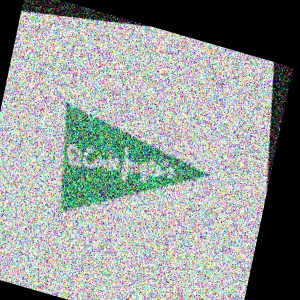corte_ingles: (192, 81, 267, 172)
